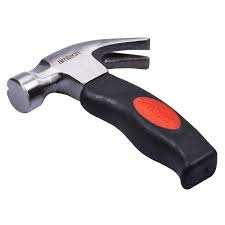hammer: (6, 36, 219, 191)
